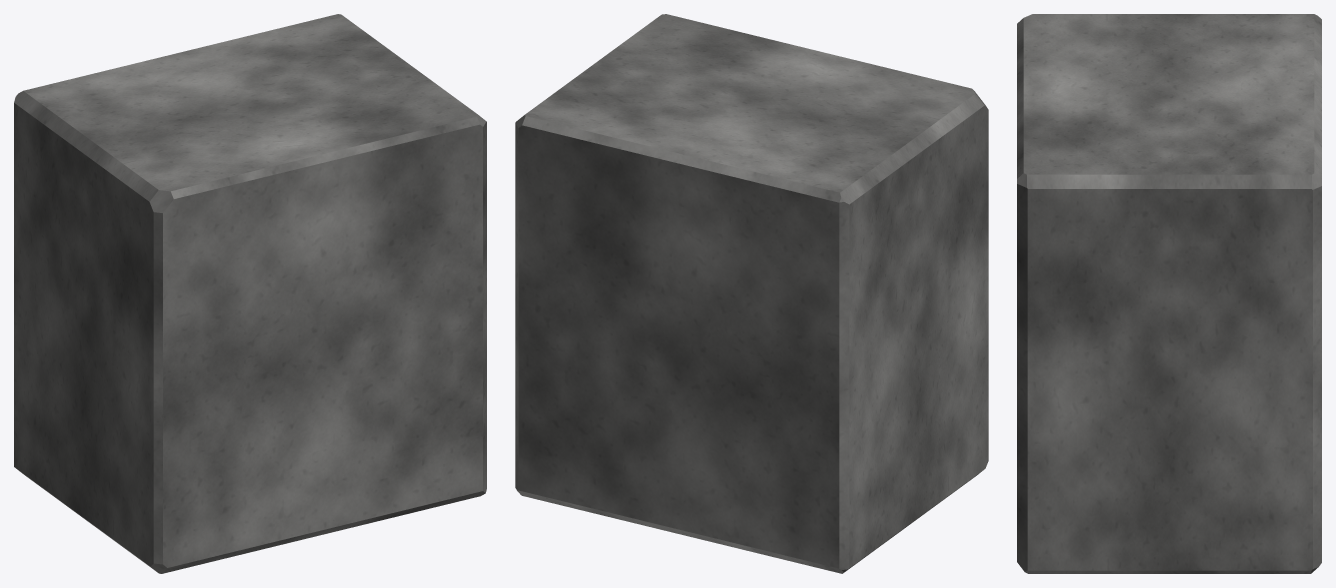
Rendered from limestone-block-04.glb.
The picture shows the model from 3 angles, left to right: view 1: azimuth 30°, elevation 25°; view 2: azimuth 150°, elevation 25°; view 3: azimuth 270°, elevation 25°; orthographic projection. The views are drawn at different scales.
Visible parts, largest first — view 1: limestone-block-04; view 2: limestone-block-04; view 3: limestone-block-04.
Boxes of the visible parts, x1=… form: limestone-block-04: x1=14, y1=14, x2=486, y2=573; limestone-block-04: x1=515, y1=14, x2=988, y2=573; limestone-block-04: x1=1017, y1=14, x2=1321, y2=573.
Size of the model in its own units: 0.28 by 0.3058 by 0.2123.
1 material, 1 textured.
